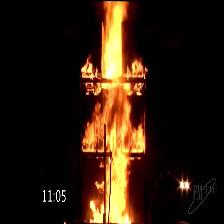fire: (101, 0, 128, 222)
